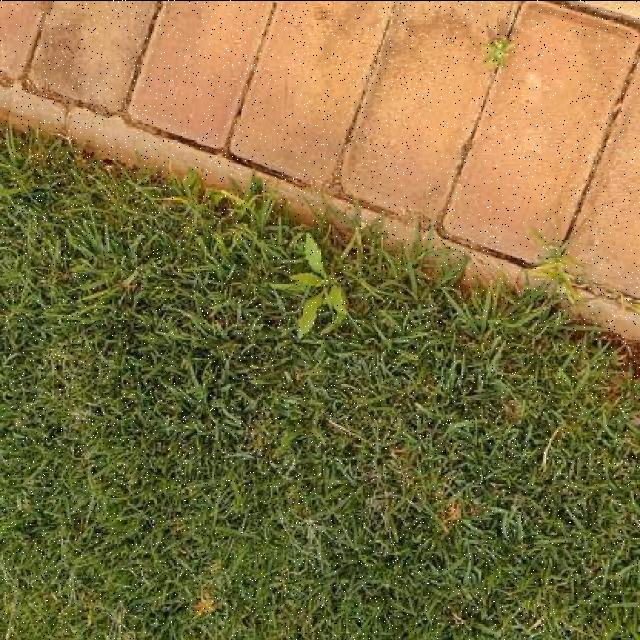weed: (272, 231, 348, 337)
